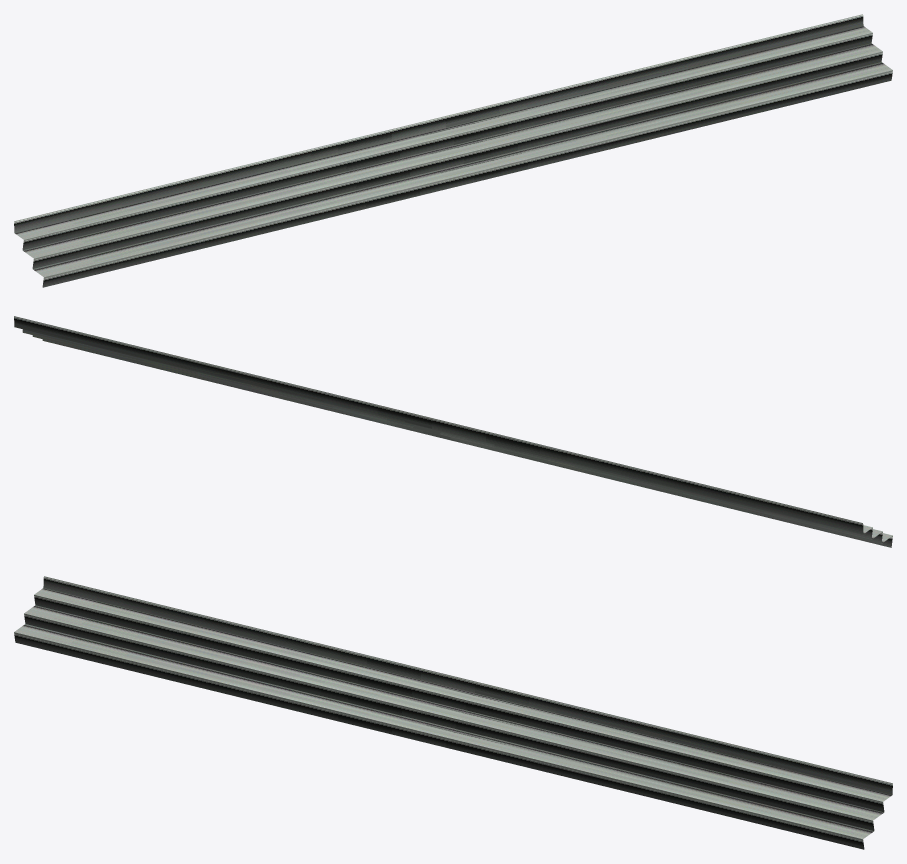
File: TTreppeBreitGedreht3Stufen [Weiß]_48.glb
3 views of the same model, one above another, from view 1: azimuth 30°, elevation 25°; view 2: azimuth 150°, elevation 25°; view 3: azimuth 330°, elevation 25° (orthographic).
Visible parts, largest first — view 1: pPlaneShape20; view 2: pPlaneShape20; view 3: pPlaneShape20.
Part boxes in pixels (box(x1,y1,x2,y2)): pPlaneShape20: box(14, 14, 892, 287); pPlaneShape20: box(14, 316, 892, 547); pPlaneShape20: box(14, 576, 892, 849).
Bounding box in the file's own units: 2.53 × 0.1299 × 0.154.
Materials: 1 (1 with a texture image).
